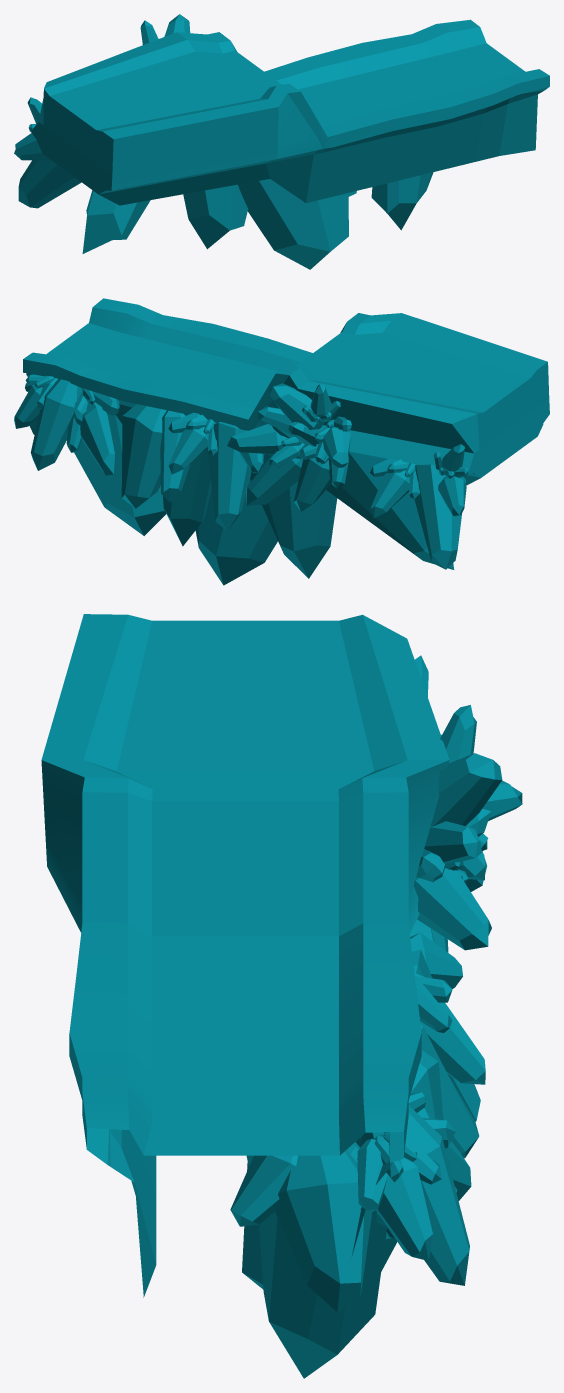
The model's file is Step_up_long.fbx.
3 renders of one model, top to bottom at view 1: azimuth 30°, elevation 25°; view 2: azimuth 150°, elevation 25°; view 3: azimuth 270°, elevation 25°, orthographic. The views are drawn at different scales.
Visible parts, largest first — view 1: pCube189; view 2: pCube189; view 3: pCube189.
Part boxes in pixels (<box>): pCube189: <box>14,14,549,269</box>; pCube189: <box>14,298,549,585</box>; pCube189: <box>41,614,522,1378</box>.
Size of the model in its own units: 4.52 by 2.45 by 2.09.
